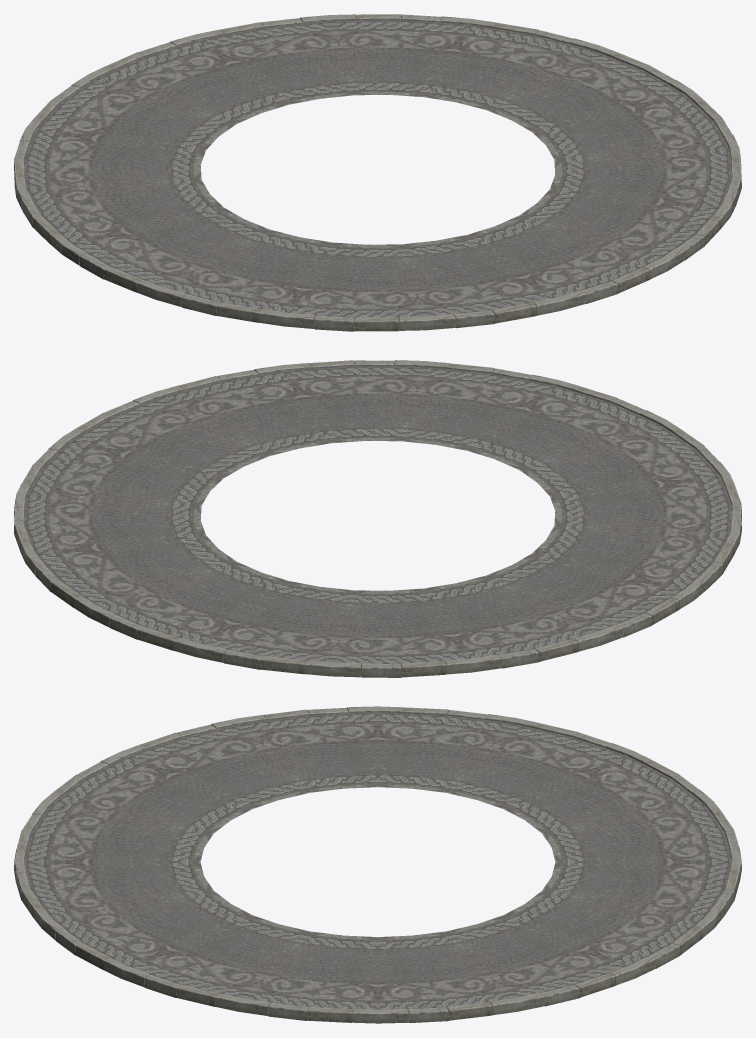
Rendered from bg_lut_lucastle_mainfloor03_sm_jjy.FBX.
3 renders of one model, top to bottom at view 1: azimuth 30°, elevation 25°; view 2: azimuth 150°, elevation 25°; view 3: azimuth 270°, elevation 25°, orthographic.
Parts seen in each view (by area): view 1: bg_lut_lucastle_mainfloor03_sm_jjy; view 2: bg_lut_lucastle_mainfloor03_sm_jjy; view 3: bg_lut_lucastle_mainfloor03_sm_jjy.
Boxes of the visible parts, x1,y1,x2,y2 form: bg_lut_lucastle_mainfloor03_sm_jjy: (14, 14, 741, 331); bg_lut_lucastle_mainfloor03_sm_jjy: (14, 360, 741, 677); bg_lut_lucastle_mainfloor03_sm_jjy: (14, 706, 741, 1023).
Size of the model in its own units: 2080 by 33.07 by 2080.
